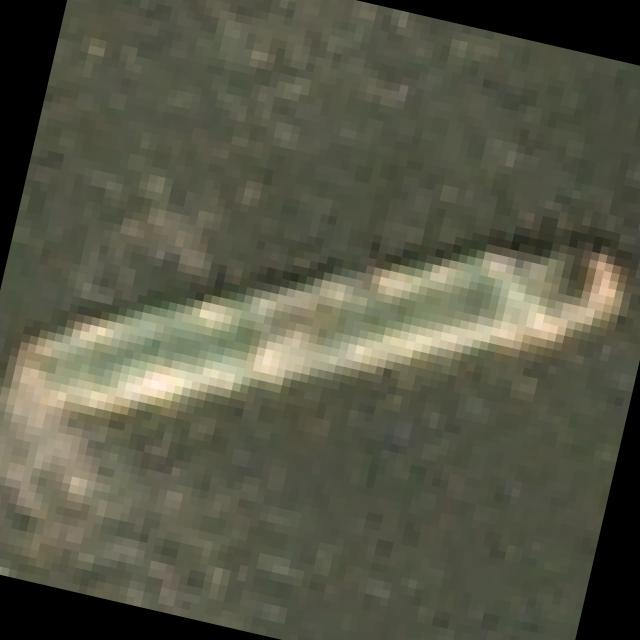ship: (0, 103, 634, 566)
